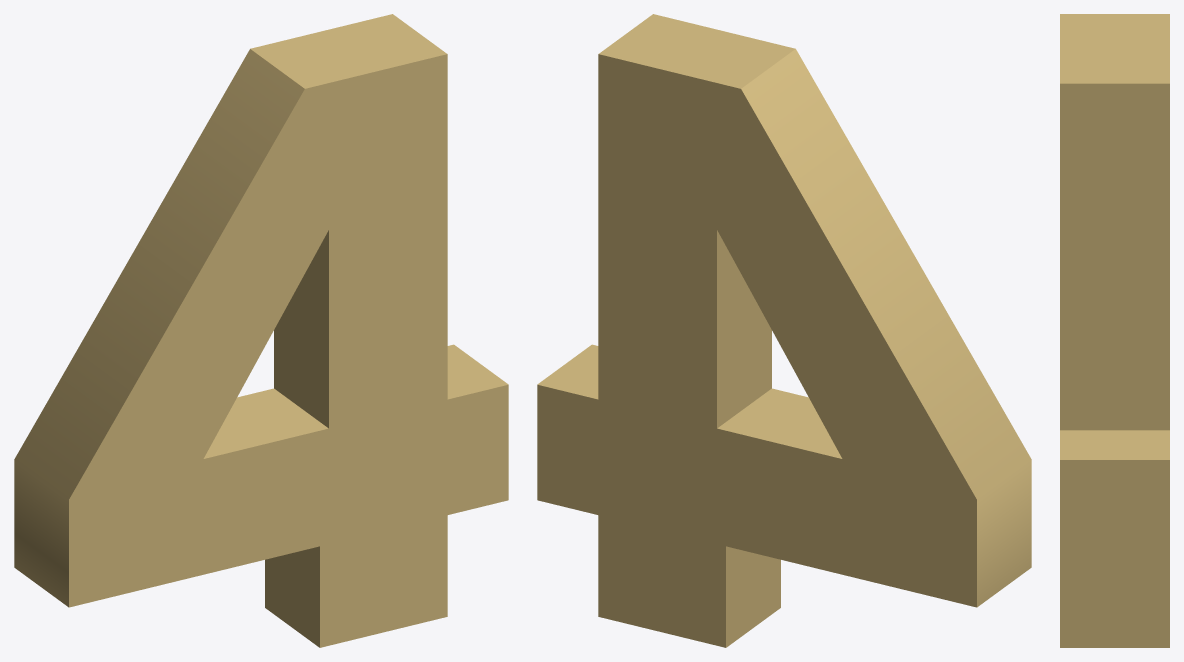
The model's file is kr_num_4.glb.
3 views of the same model, side by side, from view 1: azimuth 30°, elevation 25°; view 2: azimuth 150°, elevation 25°; view 3: azimuth 270°, elevation 25° (orthographic).
Visible parts, largest first — view 1: vc_m8_r2; view 2: vc_m8_r2; view 3: vc_m8_r2.
Boxes of the visible parts, left/top/right/bottom form: vc_m8_r2: left=14, top=14, right=508, bottom=647; vc_m8_r2: left=537, top=14, right=1031, bottom=647; vc_m8_r2: left=1060, top=14, right=1169, bottom=647.
Bounding box in the file's own units: 0.2781 × 0.34 × 0.06.
